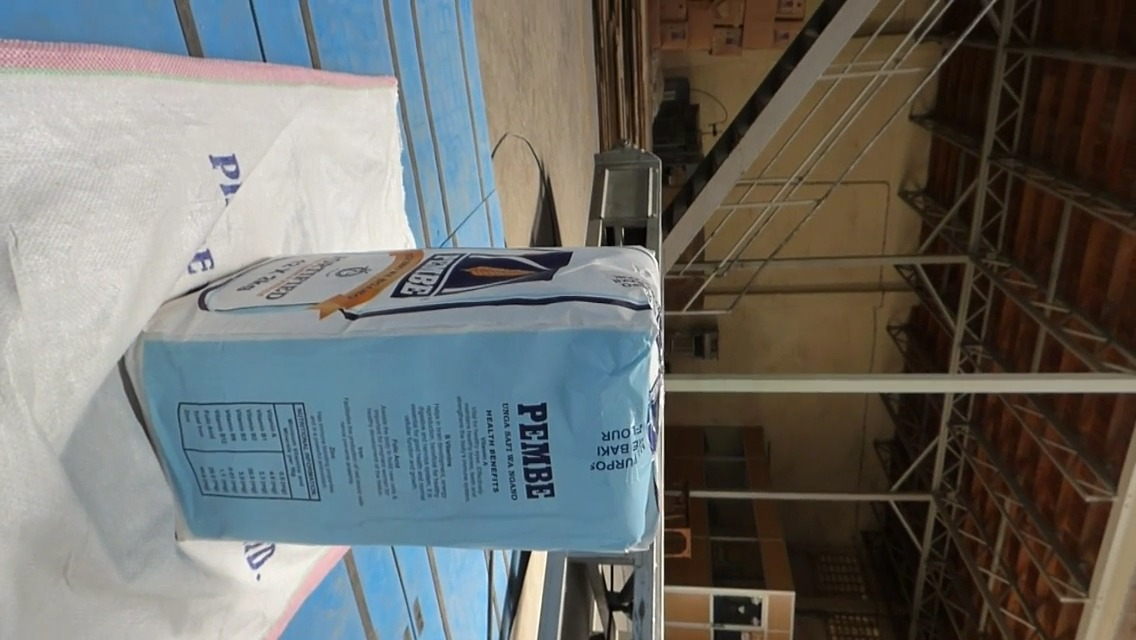wheat_flour_blue_label: (140, 250, 663, 553)
